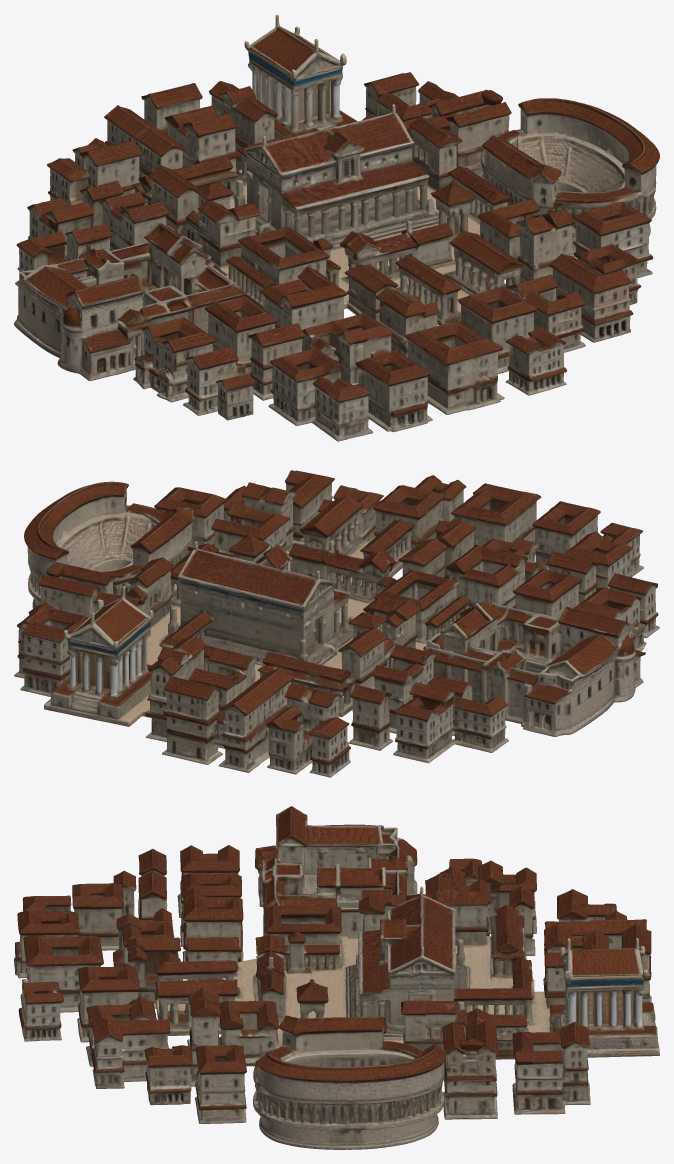
Rendered from Classical City (Greco-Roman).fbx.
3 renders of one model, top to bottom at view 1: azimuth 30°, elevation 25°; view 2: azimuth 150°, elevation 25°; view 3: azimuth 270°, elevation 25°, orthographic. The views are drawn at different scales.
Parts seen in each view (by area): view 1: tripo_node_b7073730; view 2: tripo_node_b7073730; view 3: tripo_node_b7073730.
Part boxes in pixels (x1=…): tripo_node_b7073730: x1=14, y1=14, x2=659, y2=441; tripo_node_b7073730: x1=14, y1=470, x2=659, y2=777; tripo_node_b7073730: x1=14, y1=806, x2=659, y2=1149.
Bounding box in the file's own units: 1 × 0.2036 × 0.9835.
